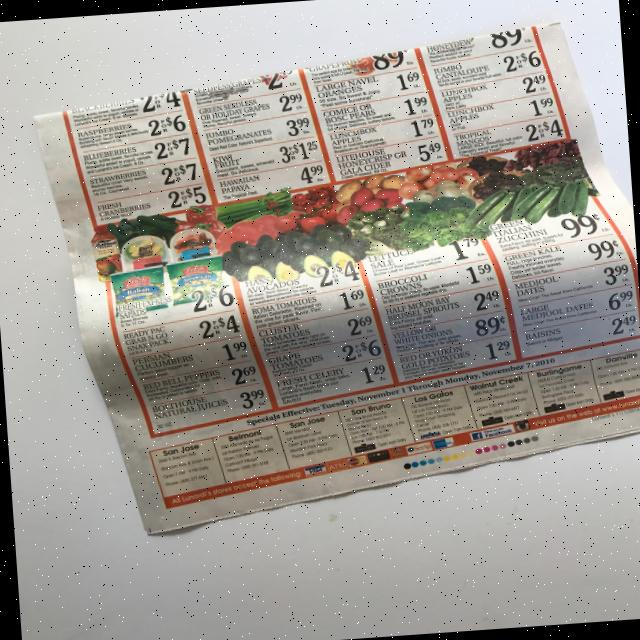paper: (28, 16, 640, 541)
